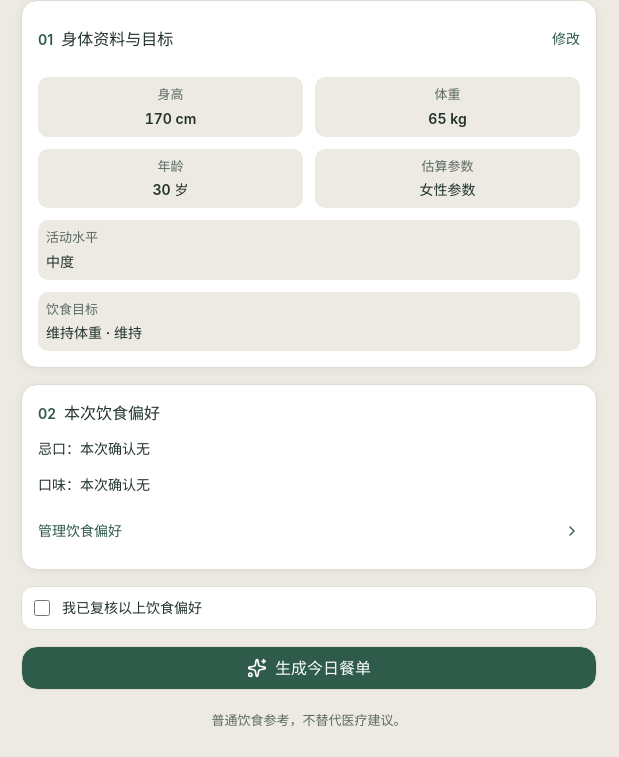
PlanPage › preserves the actionable failure without a health refusal: 本次筛选时间或计算额度已用完，尚未找到完整餐单。请稍后重试；若反复出现，请联系管理员调整筛选预算。
The width and height of the screenshot is (619, 757).
Expected: the text "170 cm" is shown, [145,110,196,126]
Click the checkbox labelled "我已复核以上饮食偏好" at (42, 608), box [34,600,50,616]
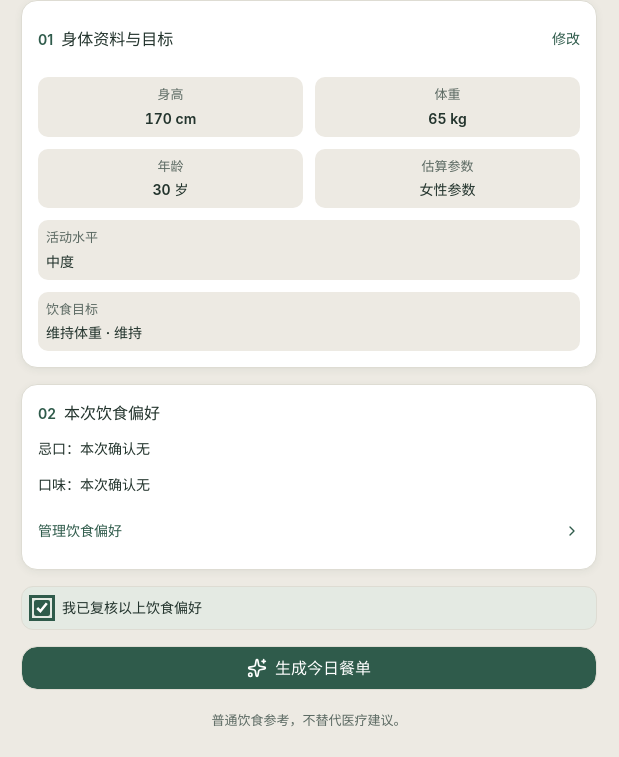
Click the button "生成今日餐单" at (309, 668), box [21,646,597,690]
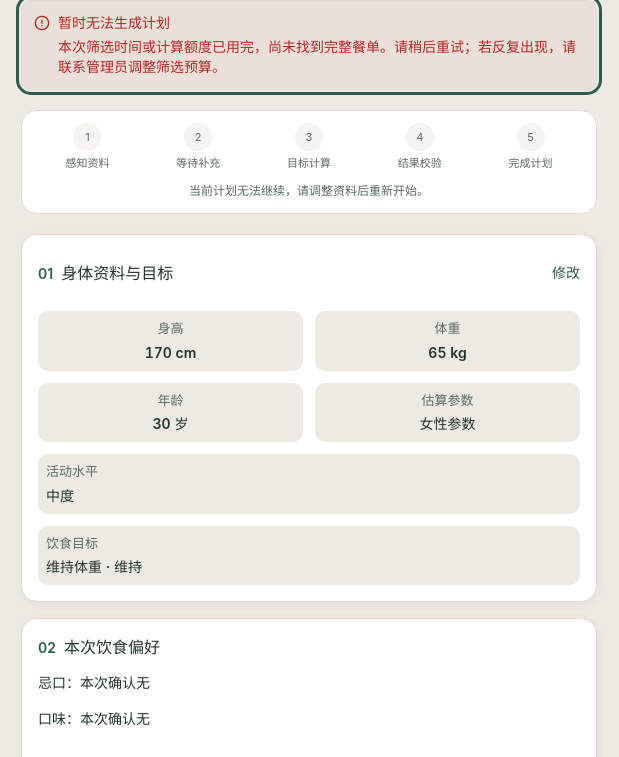
Result: the text "暂时无法生成计划" shows "本次筛选时间或计算额度已用完，尚未找到完整餐单。请稍后重试；若反复出现，请联系管理员调整筛选预算。" at [58,38,576,75]
Result: the text "本次筛选时间或计算额度已用完，尚未找到完整餐单。请稍后重试；若反复出现，请联系管理员调整筛选预算。" is shown at [58,37,584,77]
